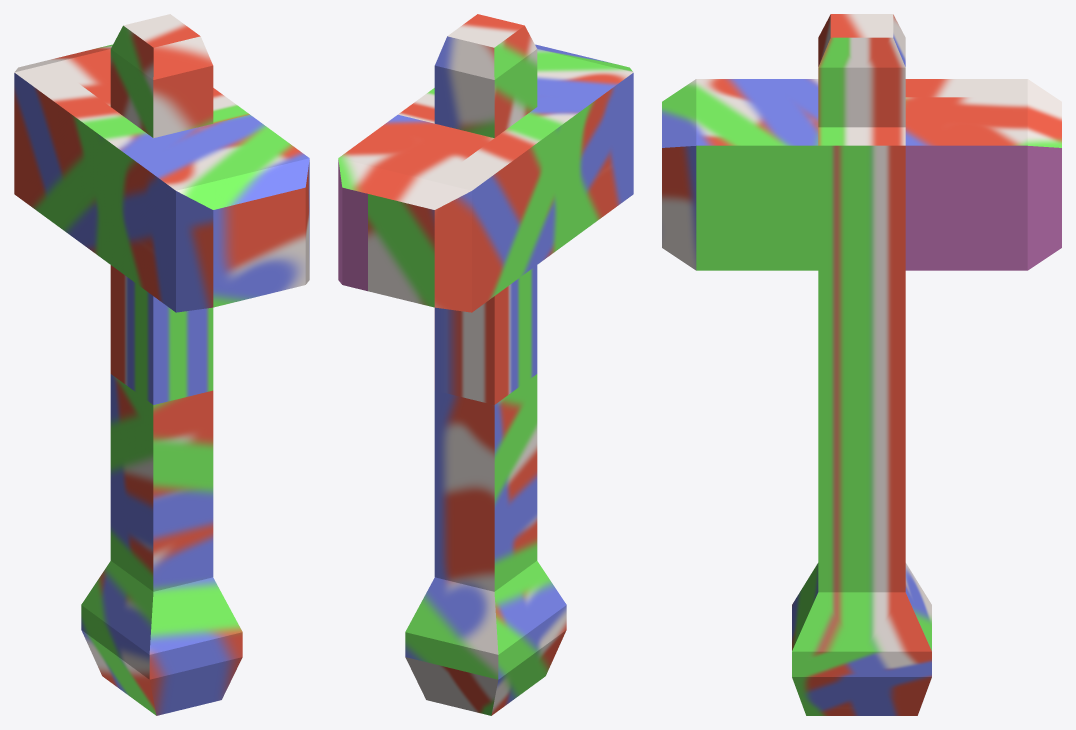
Rendered from weapon.obj.
3 views of the same model, side by side, from view 1: azimuth 30°, elevation 25°; view 2: azimuth 150°, elevation 25°; view 3: azimuth 270°, elevation 25° (orthographic). The views are drawn at different scales.
Visible parts, largest first — view 1: Cube; view 2: Cube; view 3: Cube.
Boxes of the visible parts, left/top/right/bottom form: Cube: left=14, top=14, right=309, bottom=715; Cube: left=338, top=14, right=633, bottom=715; Cube: left=662, top=14, right=1061, bottom=715.
Bounding box in the file's own units: 1.58 × 7.42 × 3.99.
1 material, 1 textured.
